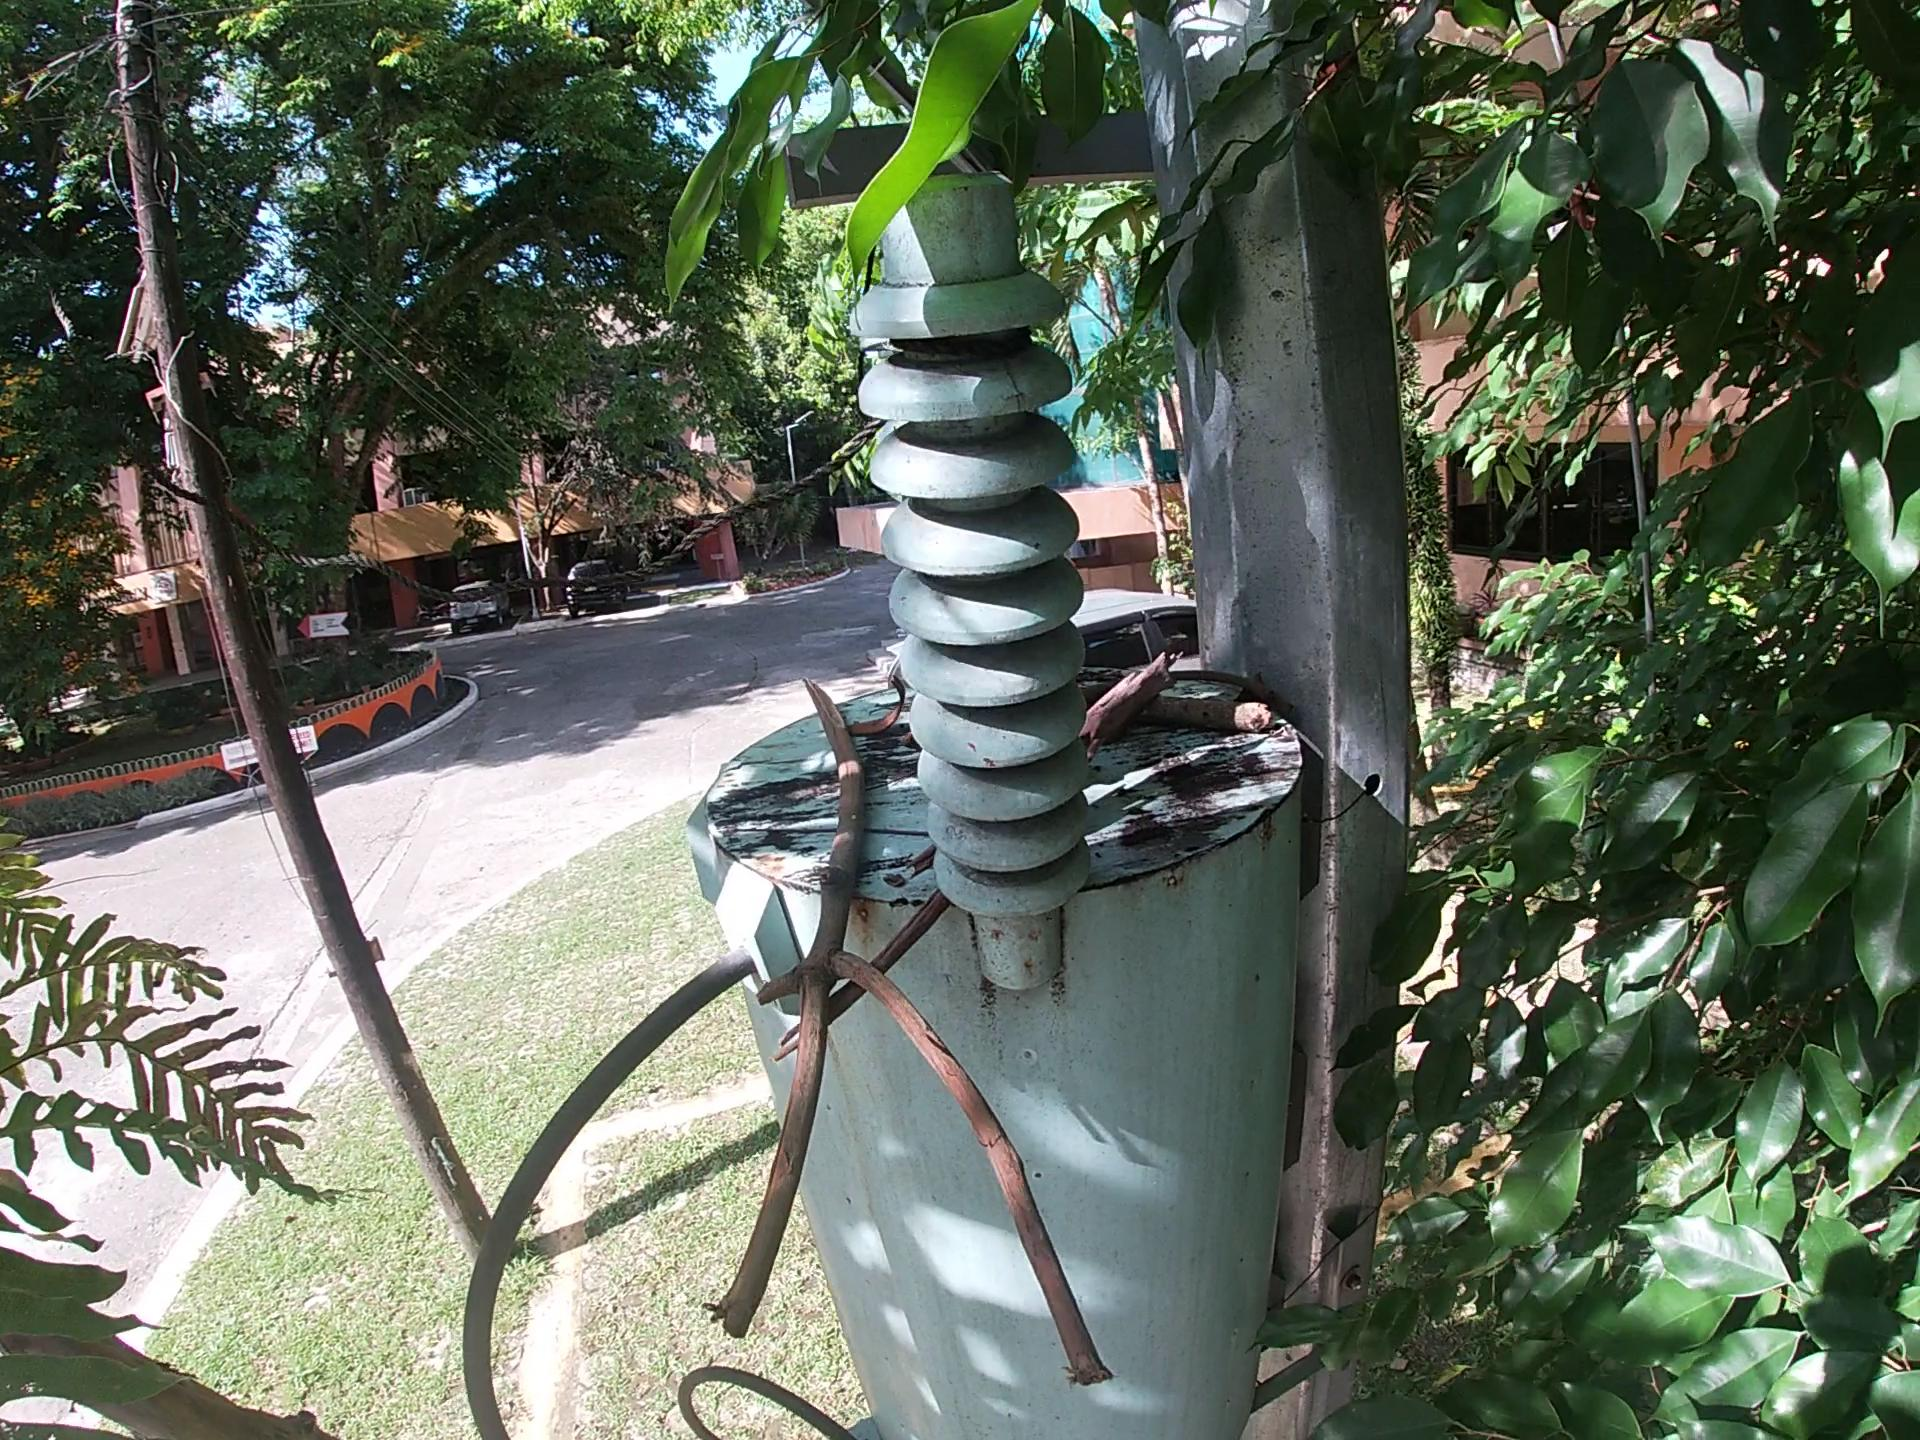mahogany fruit: (838, 669, 909, 741)
tree branch: (697, 667, 1123, 1396), (760, 885, 962, 1072), (1075, 644, 1188, 767), (1081, 684, 1281, 737), (1164, 661, 1305, 722)
